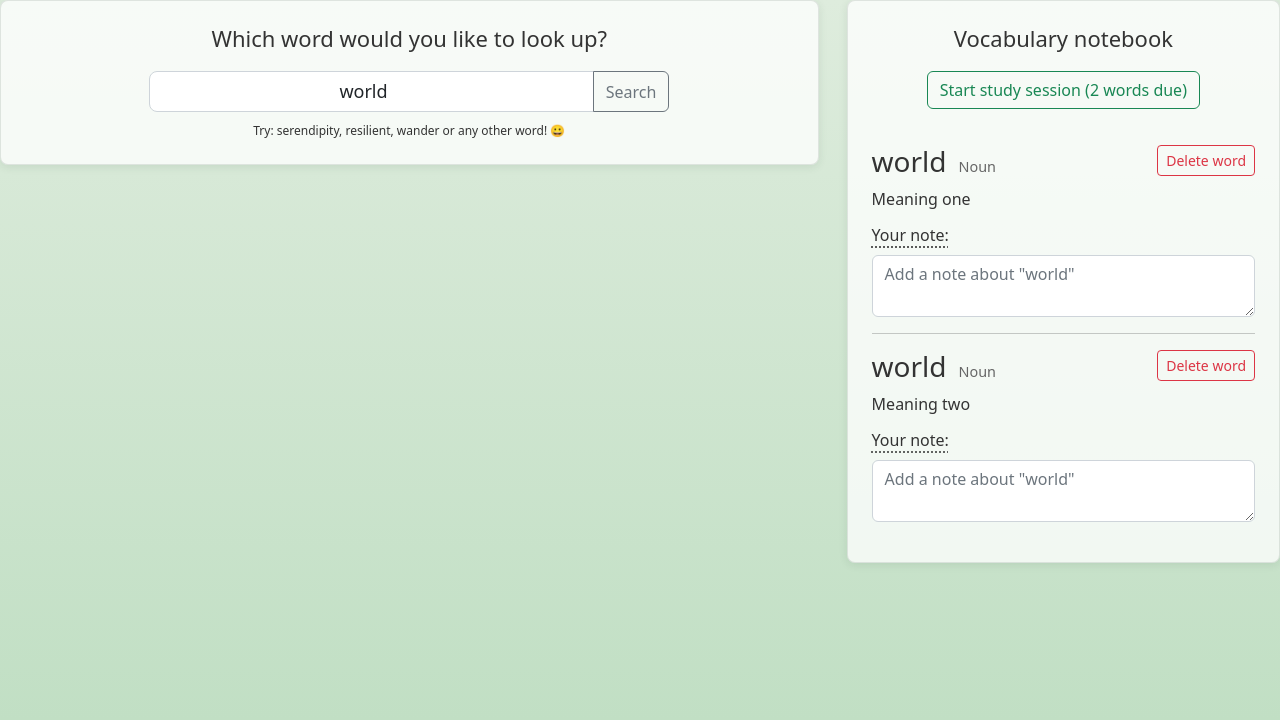
Scenario: Dictionary component › deleting one saved definition preserves other saved definitions of the same word
Click the button with aria-label "remove": click(1206, 161) [1157,145,1255,176]
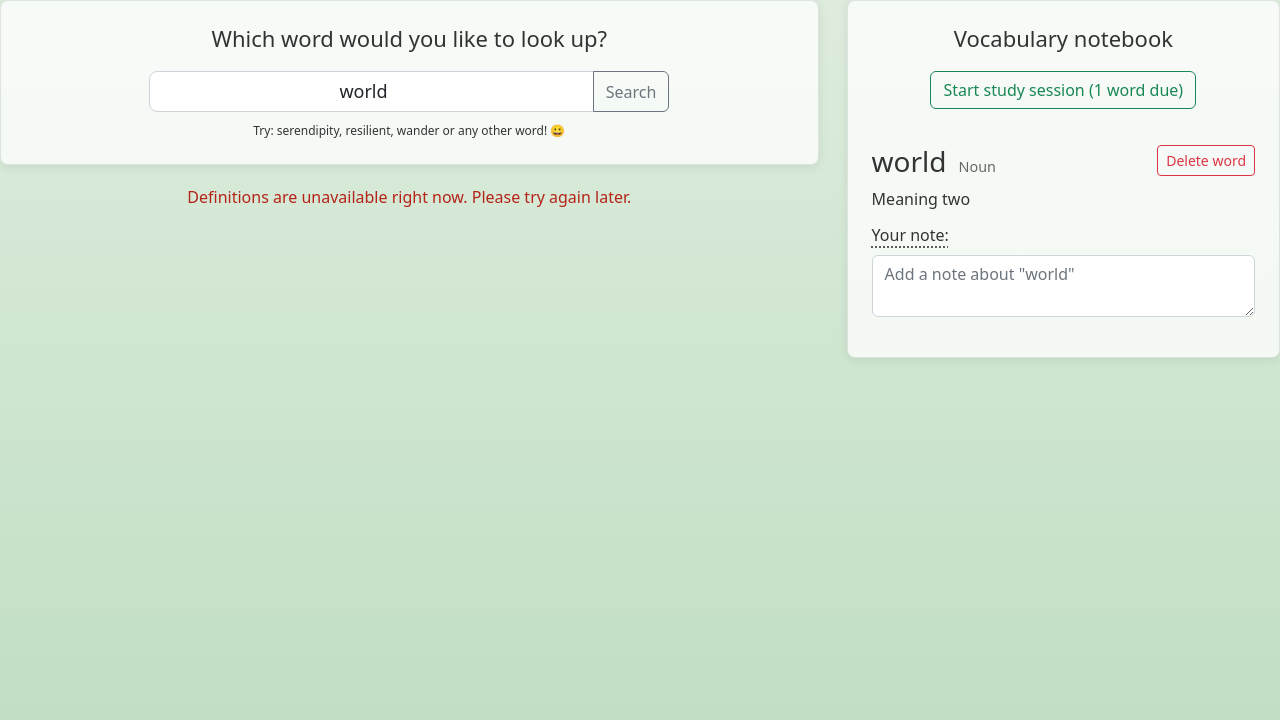
expect the text "Meaning two" is shown: met, box [872,188,970,210]
